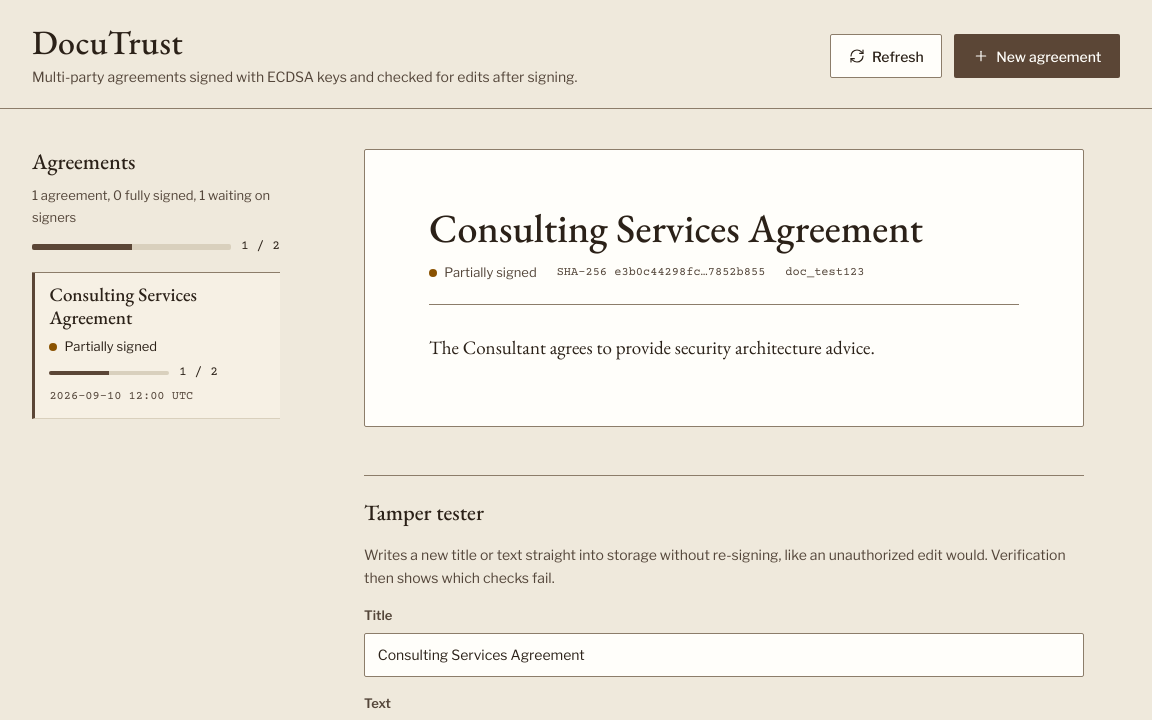
Test: DocuTrust dashboard › creates an agreement through the API and closes the dialog
This screenshot has width=1152, height=720.
Click the button "New agreement": (1037, 56) [954, 34, 1120, 78]
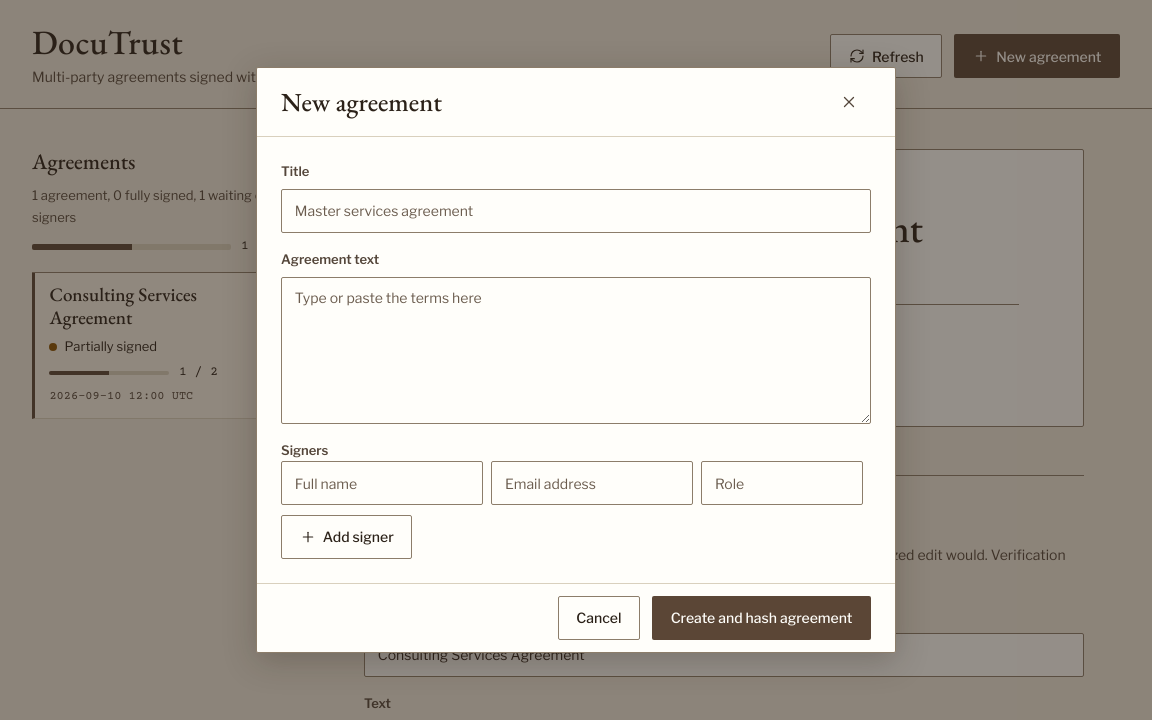
In the field labelled "Title": (576, 211) [281, 189, 871, 233], type "NDA"
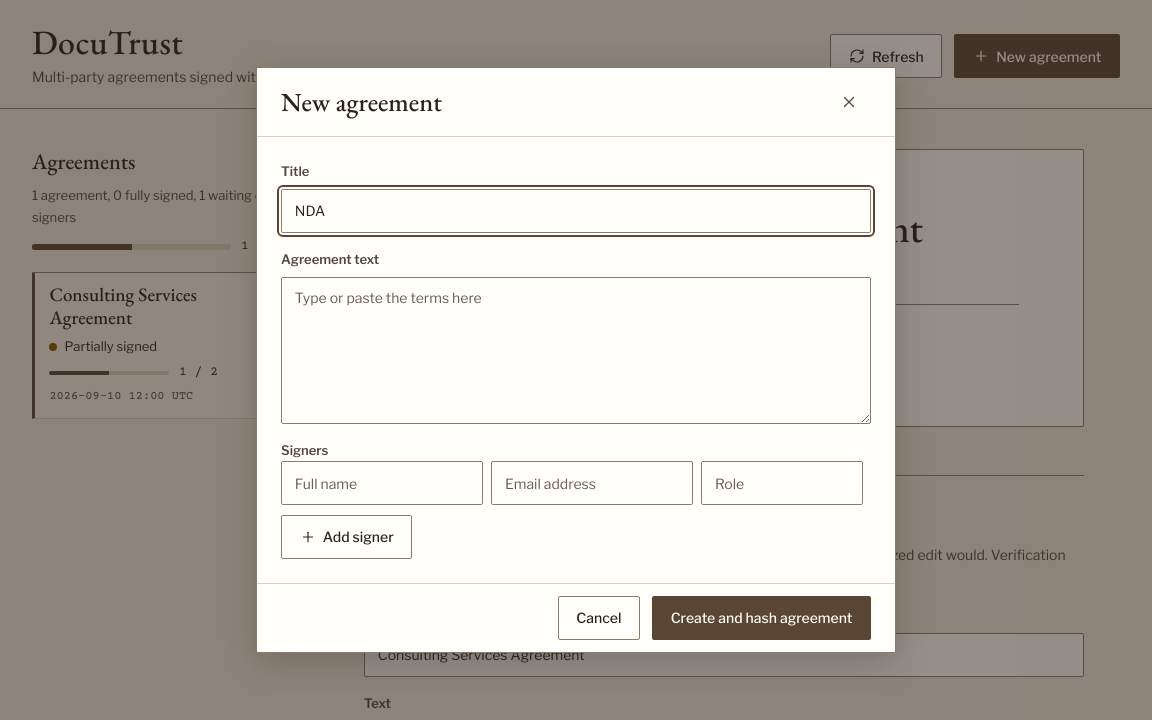
In the text box labelled "Agreement text": (576, 350) [281, 277, 871, 424], type "Keep it quiet."
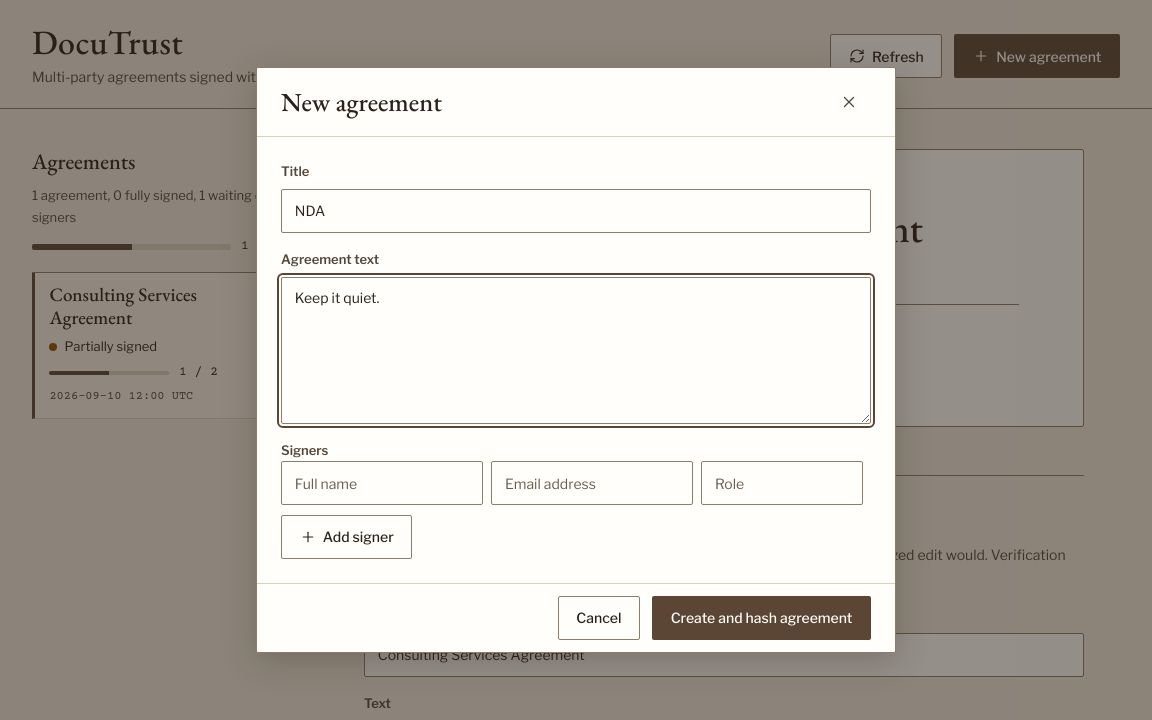
In the field named "Signer 1 full name": (382, 483) [281, 461, 483, 505], type "Mari Kask"
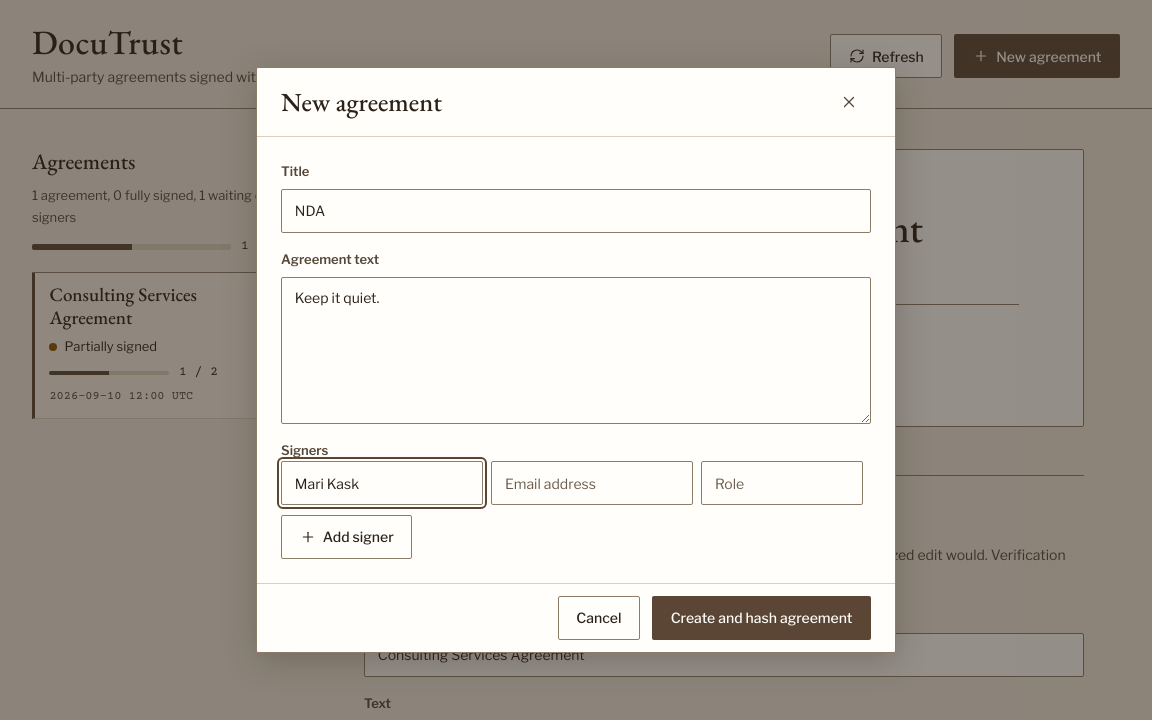
In the field named "Signer 1 email address": (592, 483) [491, 461, 693, 505], type "mari@example.ee"
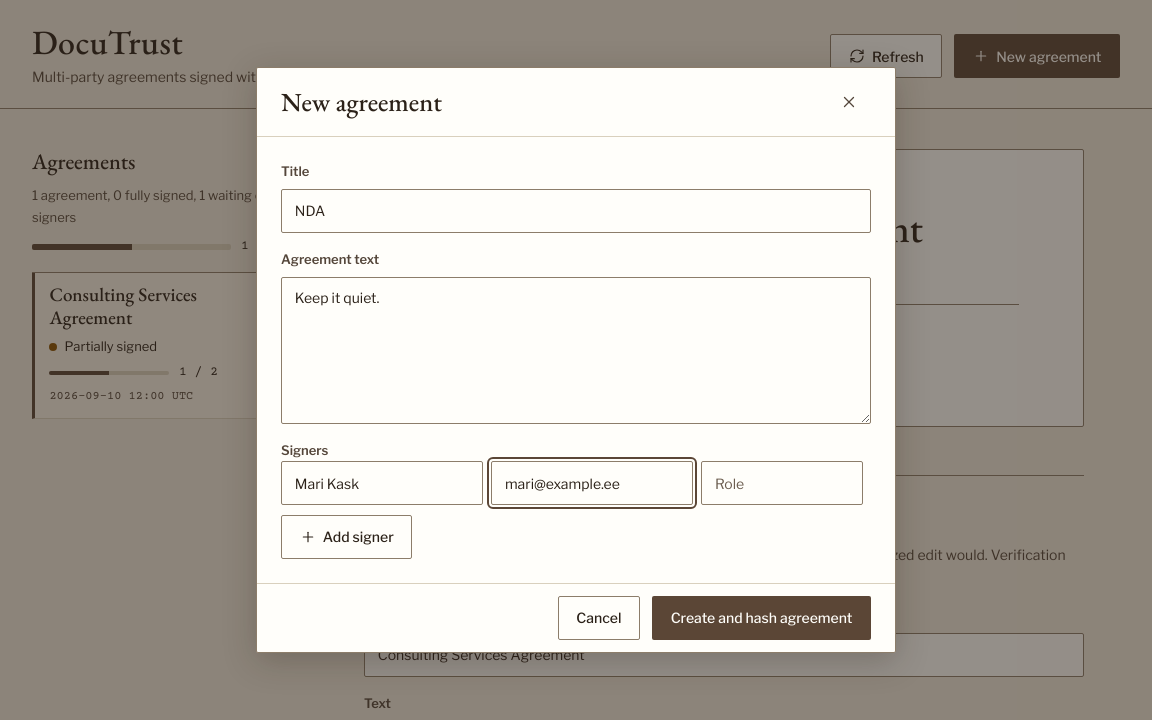
Click the button "Create and hash agreement": (762, 618) [652, 596, 871, 640]
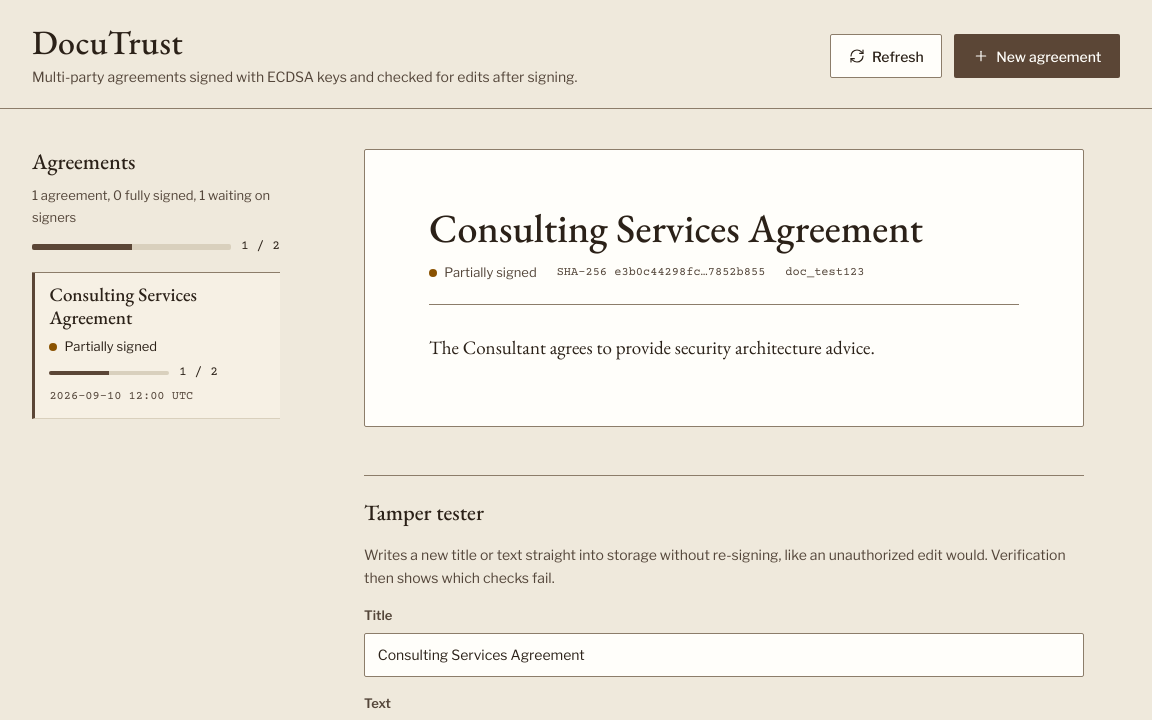
Result: the dialog is gone
